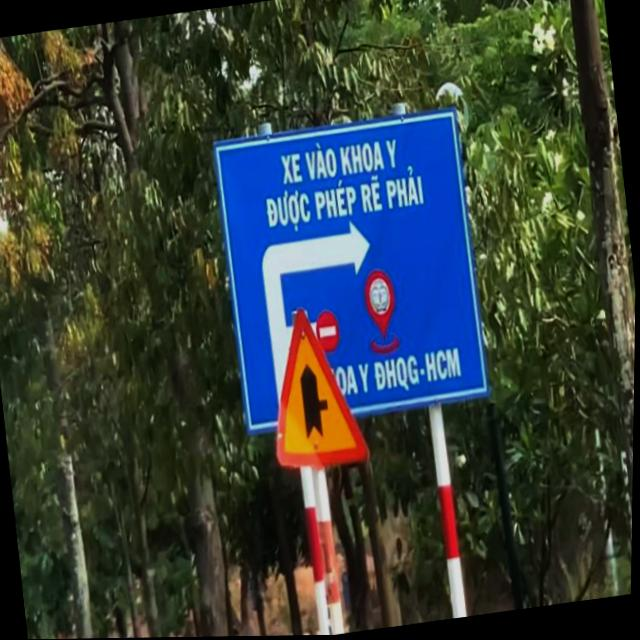Giao nhau voi duong khong uu tien ben phai: (253, 290, 380, 481)
